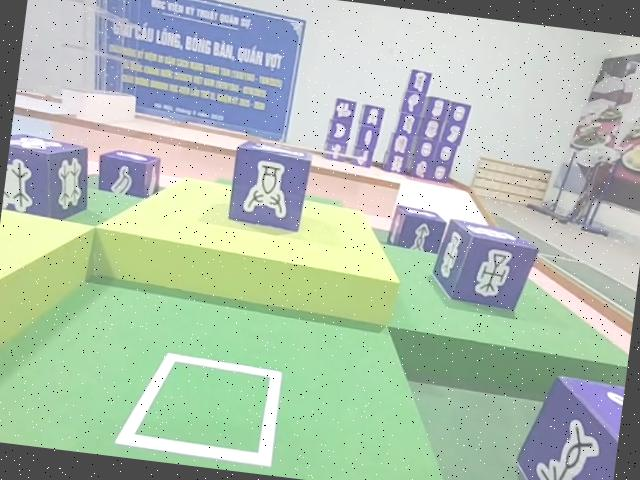R2 Real Blue: (507, 373, 624, 480), (430, 218, 542, 315), (0, 134, 94, 228), (226, 138, 315, 235), (94, 147, 162, 201), (386, 206, 449, 258)
